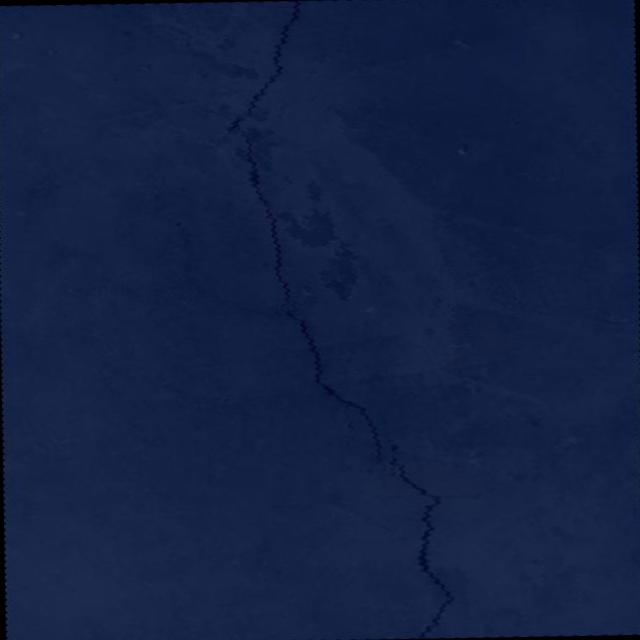crack: (177, 0, 454, 640), (154, 199, 193, 252), (440, 488, 494, 499), (162, 174, 165, 185)
